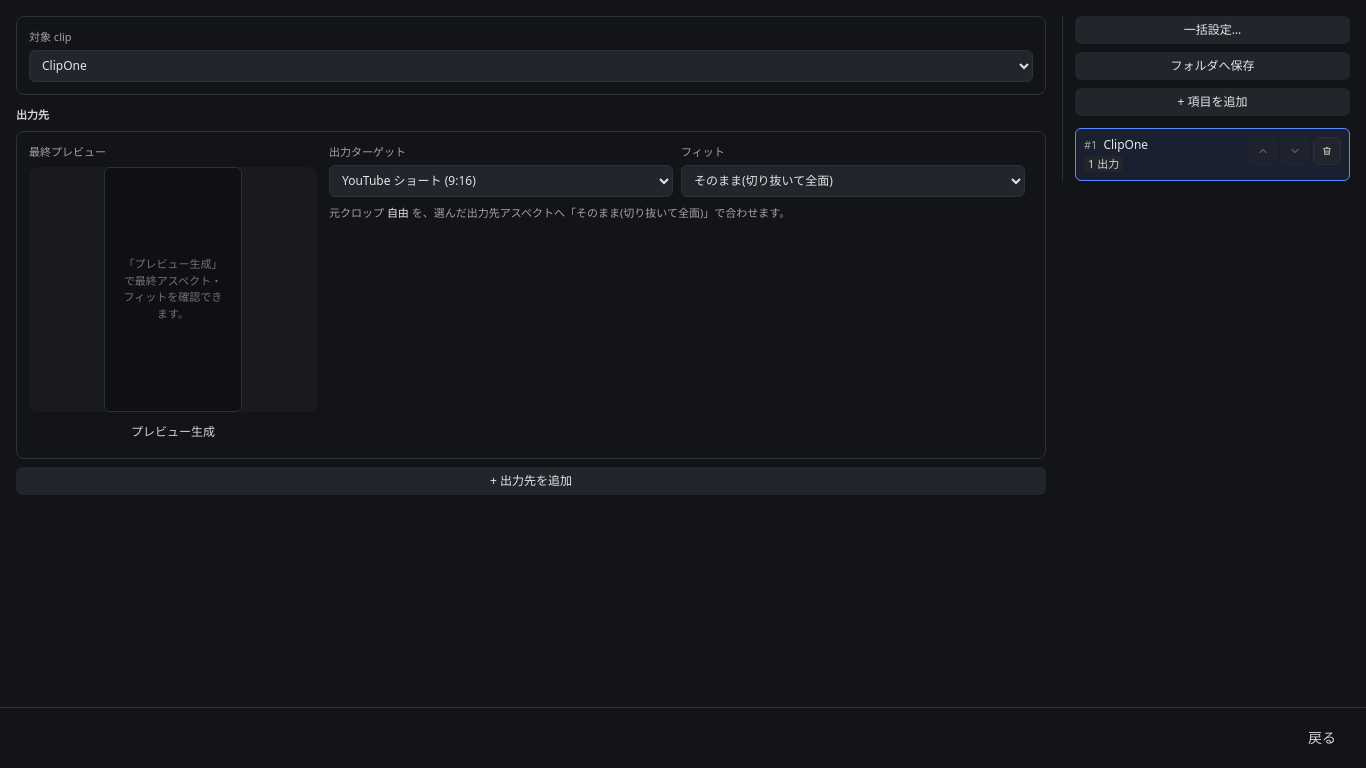
Test case: ReframeScreen: previewErrors のバナー(cancel-and-restart の扱い) › previewErrors の既存のエラー表示は、後続の ensure() が成功すると消える(P2: 再試行成功後も赤いバナーが残り続ける問題の修正)
Expected: the dropdown labelled "出力ターゲット" is shown, [329, 164, 673, 196]
Click the button "プレビュー生成" at coordinates (173, 432), box [29, 418, 317, 446]
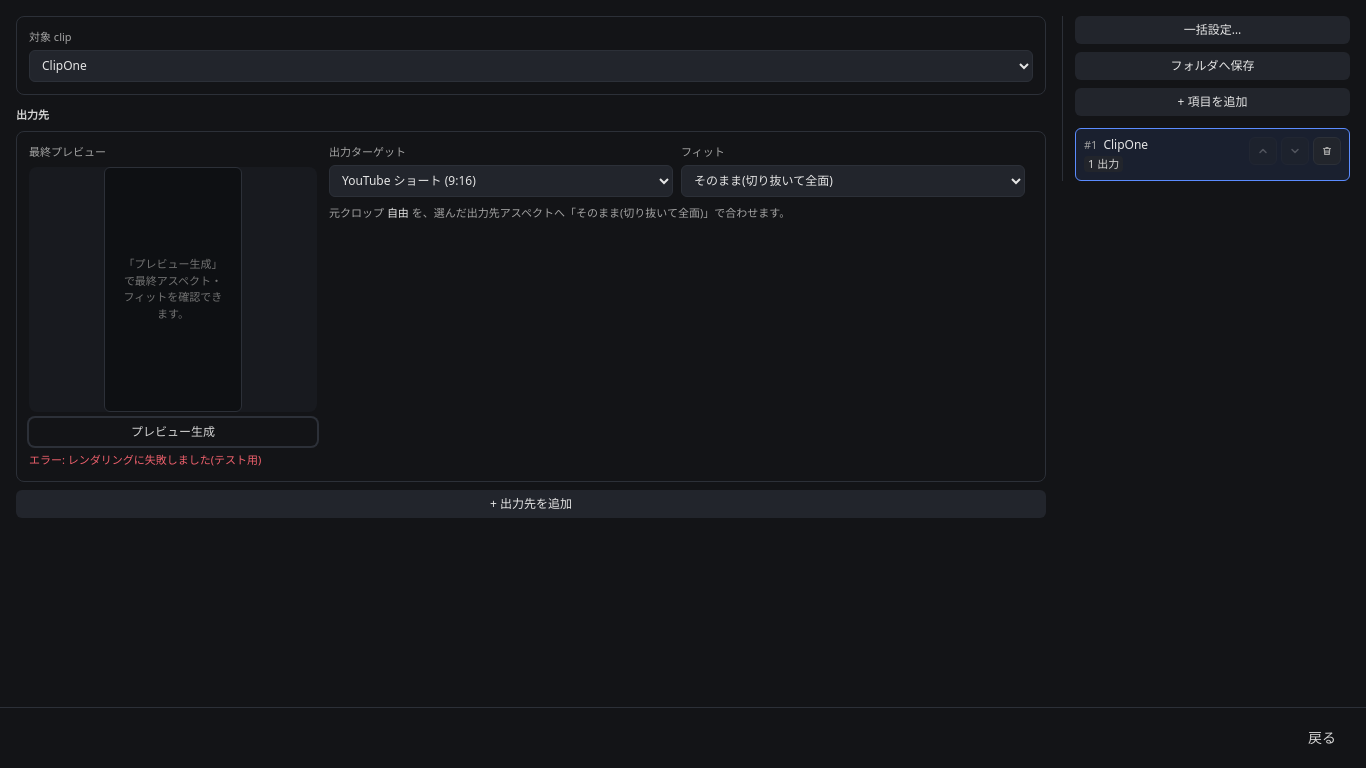
Result: the text "エラー: レンダリングに失敗しました(テスト用)" is shown at [29, 452, 261, 467]
Click the button "プレビュー生成" at coordinates (173, 432), box [29, 418, 317, 446]
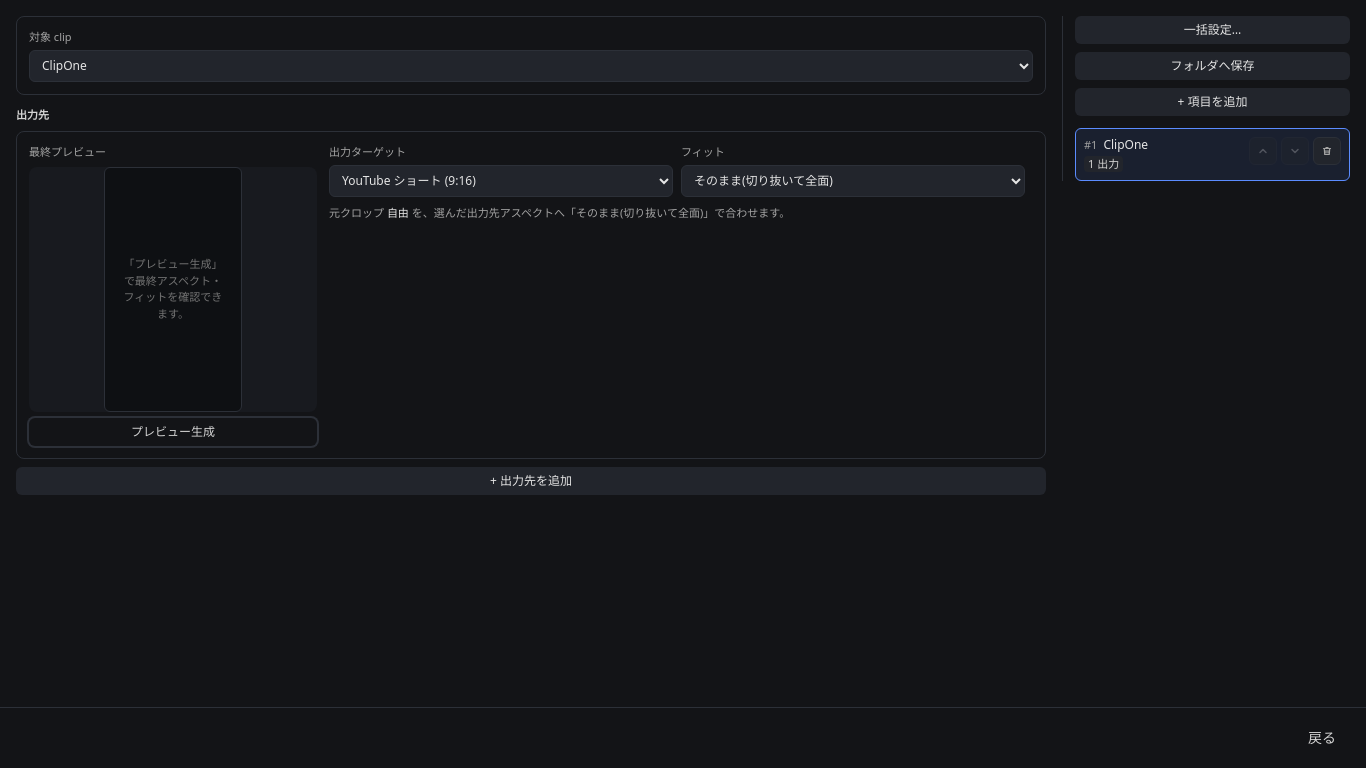
Result: the text "エラー:" is gone
